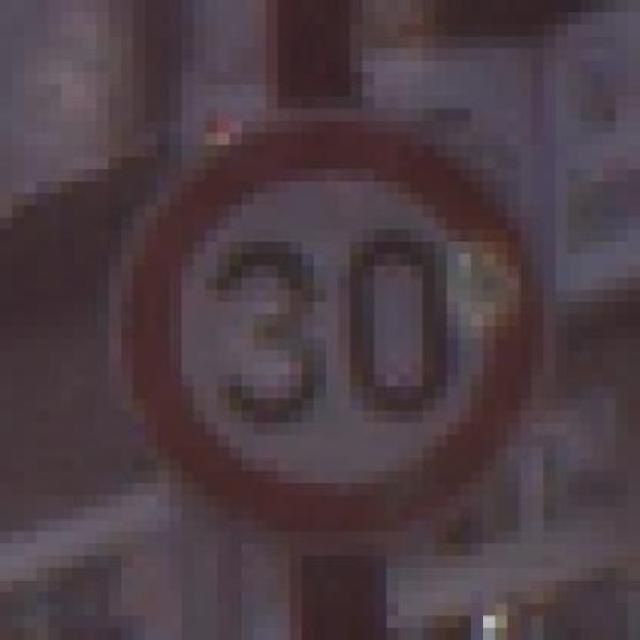Speed Limit 30 KMPh: (48, 96, 604, 556)
